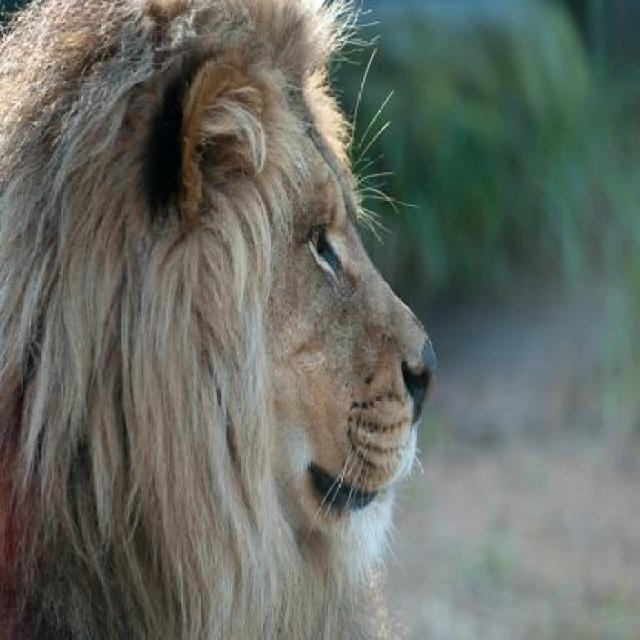Lion: (0, 9, 452, 638)
